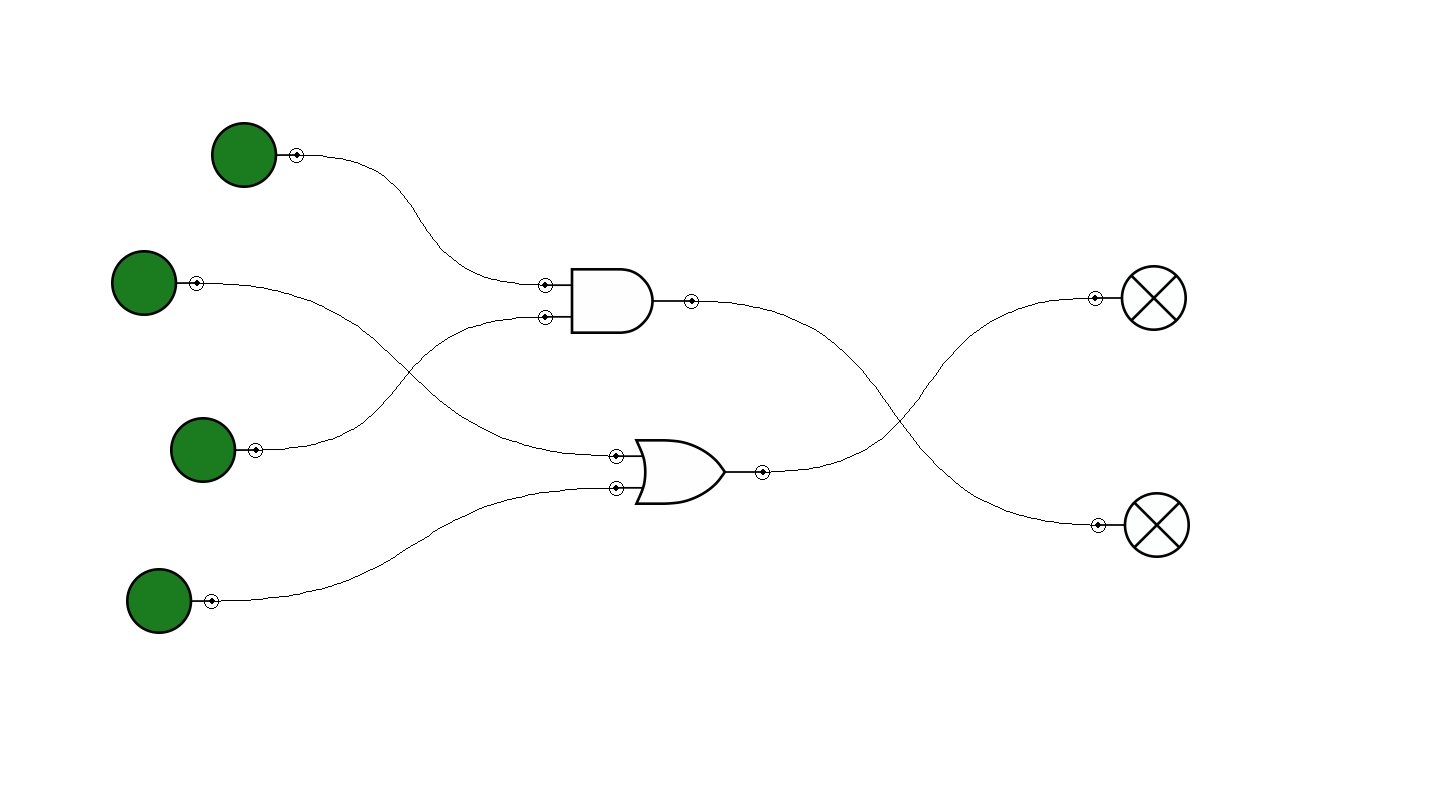and: (538, 268, 699, 334)
bulb: (1091, 492, 1190, 558), (1088, 265, 1187, 331)
or: (609, 439, 770, 505)
switch_True: (211, 122, 304, 188), (170, 417, 263, 483), (111, 250, 204, 316), (126, 568, 219, 634)
